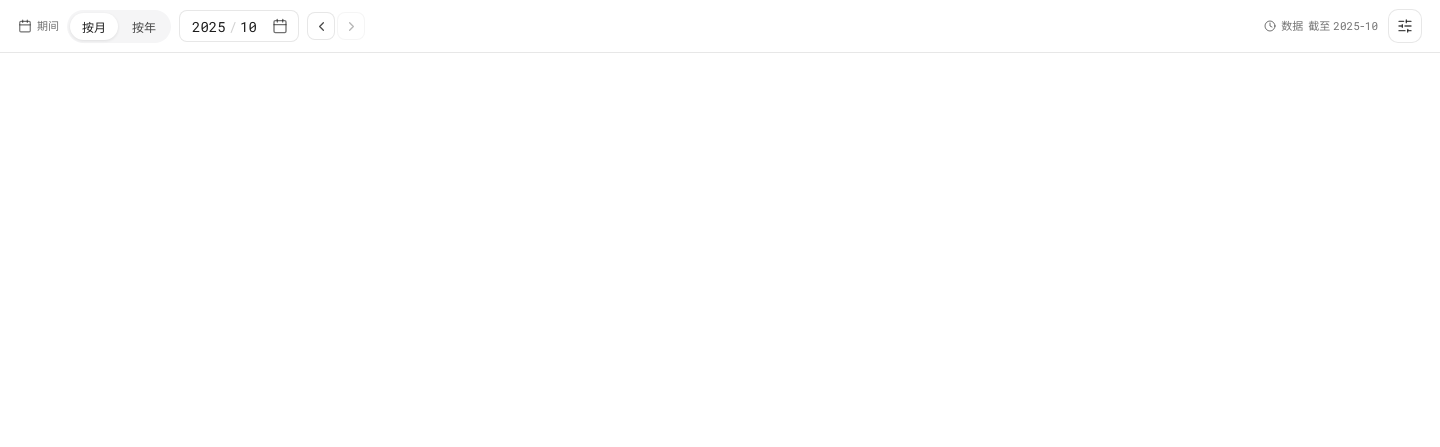
Scenario: 目标与阈值:库里一份,每一项要所属那一屏的编辑权 › ❗只差一项(光伏投资回收):说明直接写要「光伏投资回收 · 编辑」
Click the button with class "anx-icobtn": (1405, 26) [1388, 9, 1422, 43]
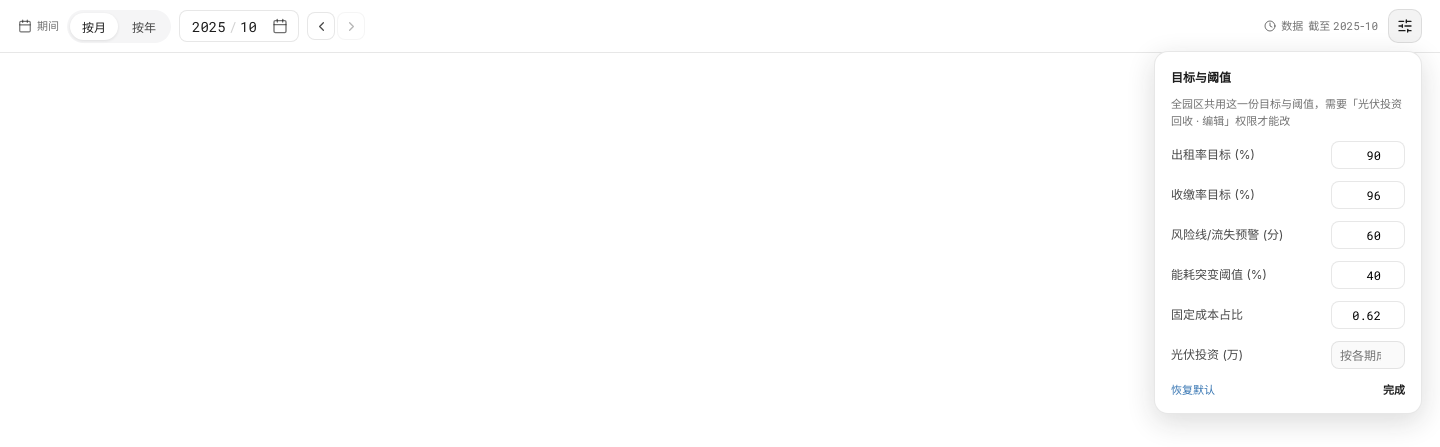
Expected: the text with class "anx-lock" reads "全园区共用这一份目标与阈值，需要「光伏投资回收 · 编辑」权限才能改", [1171, 97, 1402, 128]
